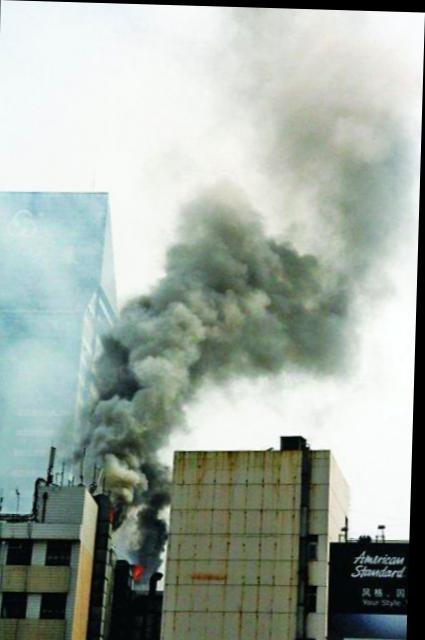smoke: (191, 217, 259, 372), (260, 256, 351, 358), (335, 116, 397, 247), (256, 54, 375, 113), (103, 348, 156, 461), (136, 466, 163, 552), (131, 308, 183, 345)
